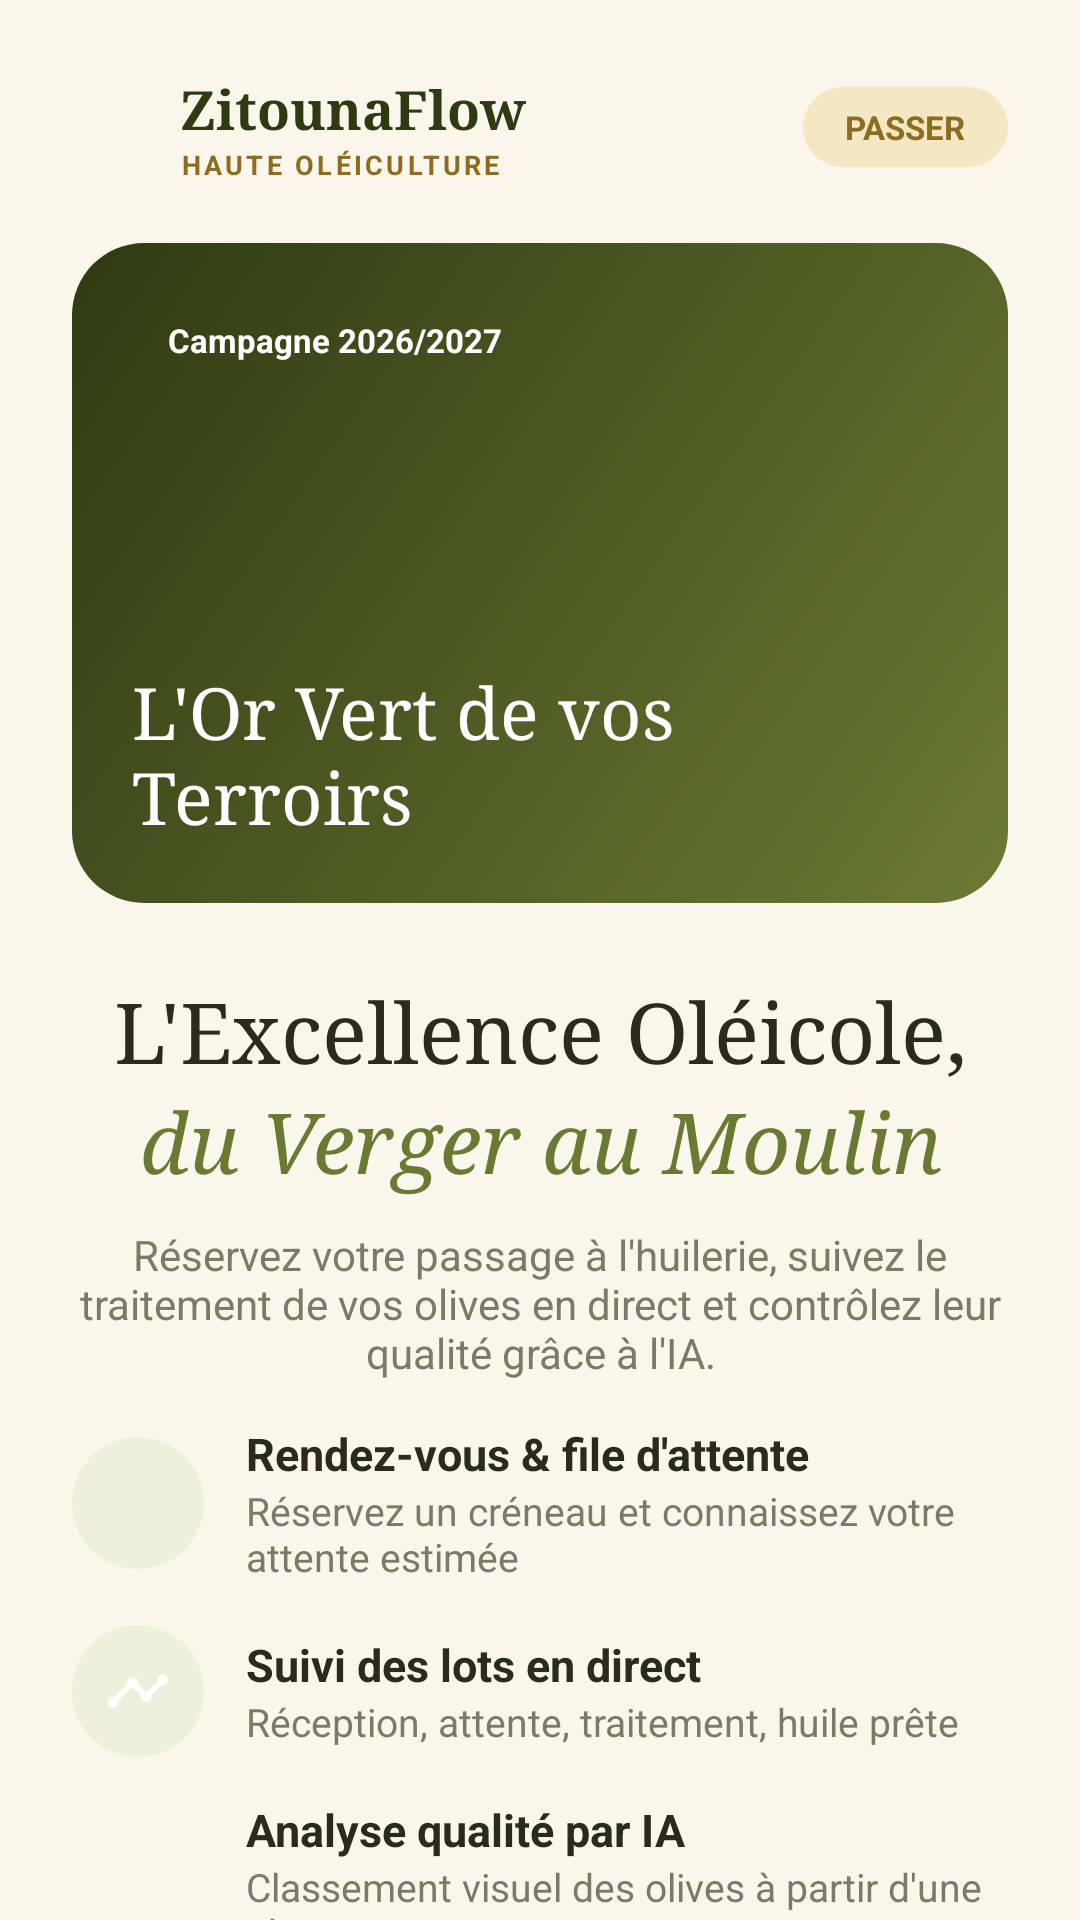

Named icons in this screenshot (1080 × 1920) and their centers, [x,y]:
timeline: [138,1691]
